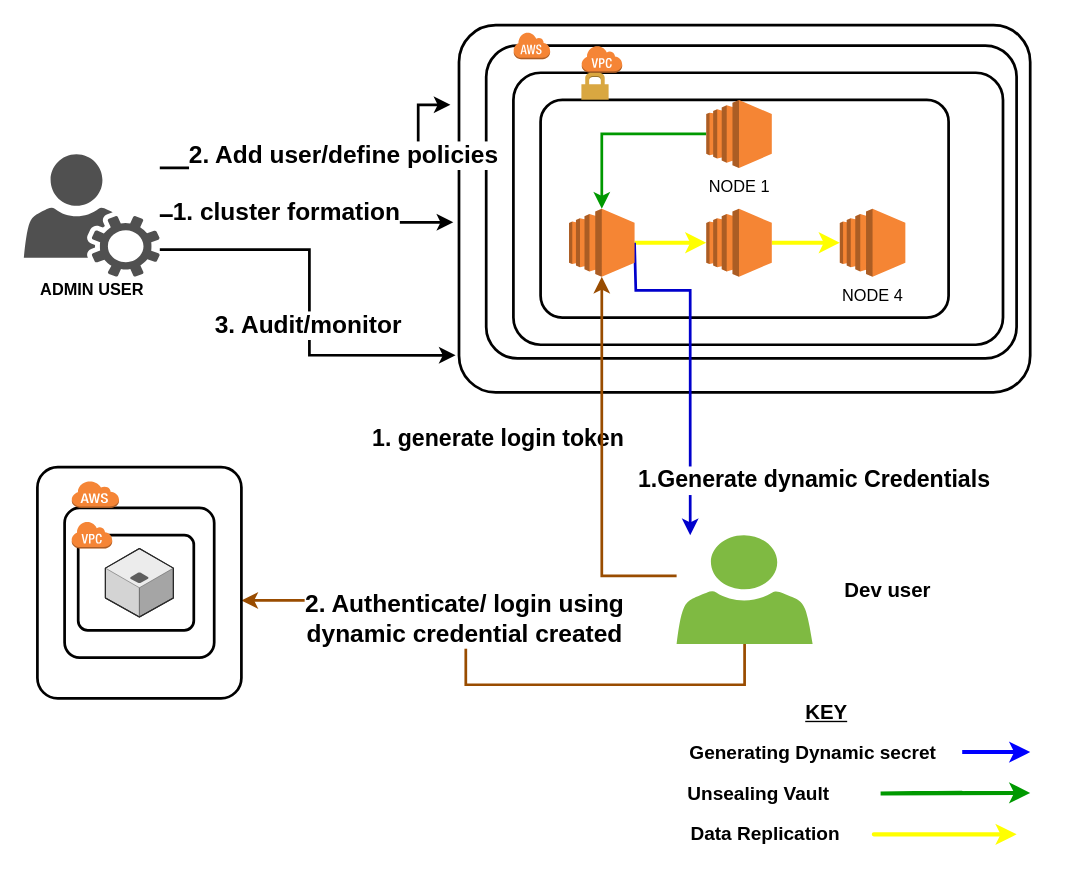
The diagram is 1066 pixels wide and 870 high, and some of its shapes have lost their labels. Here are the shapes that lost their labels. From the top down, the box of each, then its label:
(568, 207, 635, 277): NODE 2
(705, 207, 772, 277): NODE 3
